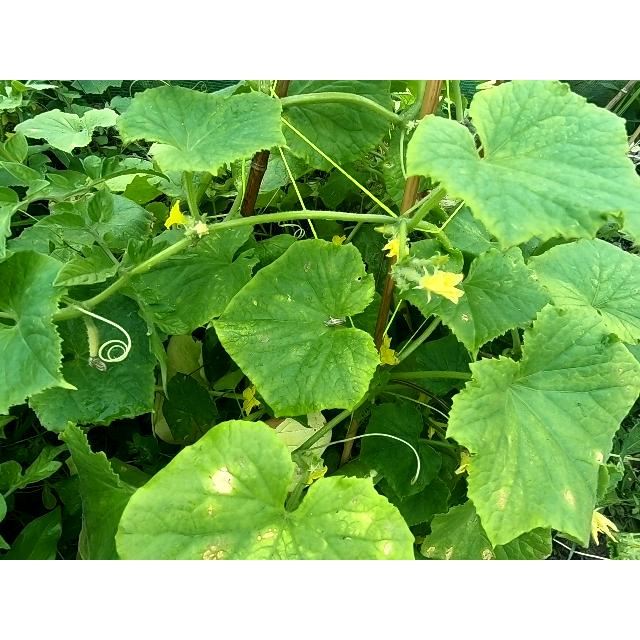Flowers: (415, 266, 467, 306), (162, 200, 210, 240), (590, 509, 620, 547), (382, 231, 410, 267), (379, 331, 401, 367), (241, 387, 261, 418)
